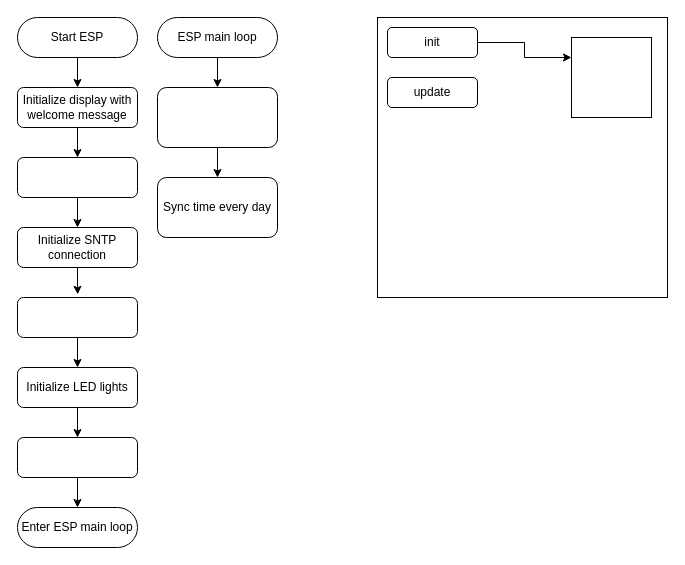
Image size: 685x565. Some labels were removed from this diagram. The centre of each missing label's shape, as x and y in pixels:
"Check WiFi connection every 5 minutes" goes at point (217, 117).
"ESP internal" goes at point (611, 77).
"Initialize keyboard" goes at point (77, 317).
"Initialize WiFi connection" goes at point (77, 177).
"Remove welcome message" goes at point (77, 457).
